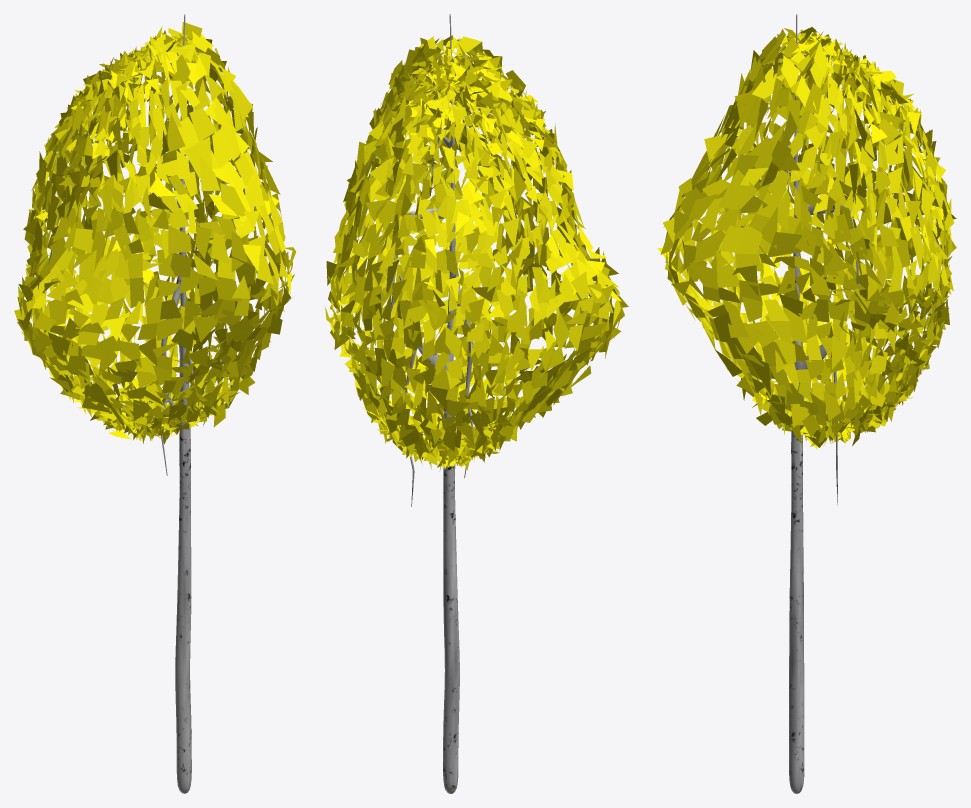
File: Leaves35.002.fbx
3 renders of one model, left to right at view 1: azimuth 30°, elevation 25°; view 2: azimuth 150°, elevation 25°; view 3: azimuth 270°, elevation 25°, orthographic.
Visible parts, largest first — view 1: Leaves35.002; view 2: Leaves35.002; view 3: Leaves35.002.
Part boxes in pixels (bbox=[...]): Leaves35.002: bbox=[14, 14, 295, 793]; Leaves35.002: bbox=[325, 14, 628, 793]; Leaves35.002: bbox=[657, 14, 956, 793].
Size of the model in its own units: 859 by 2574 by 896.
Materials: 2 (1 with a texture image).
